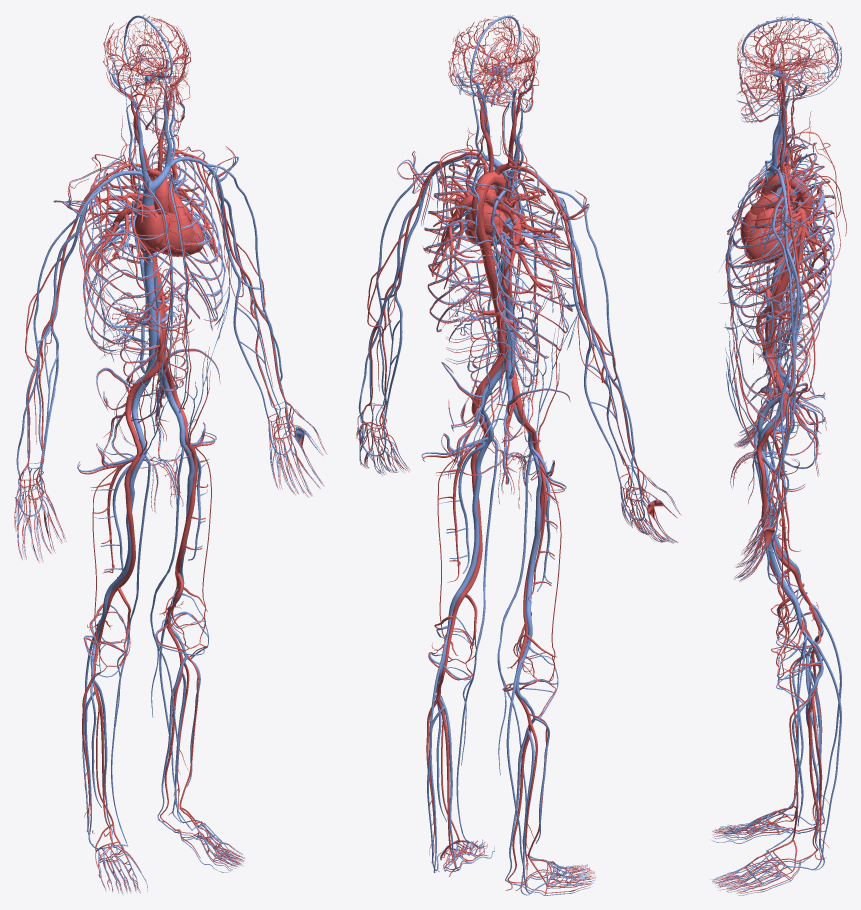
Rendered from cardio.glb.
3 views of the same model, side by side, from view 1: azimuth 30°, elevation 25°; view 2: azimuth 150°, elevation 25°; view 3: azimuth 270°, elevation 25° (orthographic). The views are drawn at different scales.
Visible parts, largest first — view 1: Right superior intercostal veins, Posterior intercostal arteries, Left superior intercostal veins.l, Great saphenous vein.001x, Great saphenous vein, Right atrium, Right ventricle, Femoral artery.001x, Posterior intercostal arteries.001x, Cephalic vein.001x, Femoral artery, Cephalic vein (+2 smaller); view 2: Right superior intercostal veins, Posterior intercostal arteries, Left superior intercostal veins.l, Posterior intercostal arteries.001x, Great saphenous vein.001x, Great saphenous vein, Femoral vein, Femoral vein.001x, Cephalic vein.001x, Thoracic aorta, Femoral artery, Basilic vein (+4 smaller); view 3: Left superior intercostal veins.l, Posterior intercostal arteries.001x, Cephalic vein, Right superior intercostal veins, Left ventricle, Small saphenous vein, Femoral artery, Great saphenous vein, Abdominal aorta, Small saphenous vein.001x, Great saphenous vein.001x, Posterior intercostal arteries (+24 smaller).
Boxes of the visible parts, left/top/right/bottom form: Right superior intercostal veins: left=80, top=155, right=171, bottom=351; Posterior intercostal arteries: left=79, top=163, right=168, bottom=354; Left superior intercostal veins.l: left=143, top=146, right=224, bottom=329; Great saphenous vein.001x: left=150, top=446, right=191, bottom=830; Great saphenous vein: left=111, top=455, right=150, bottom=845; Right atrium: left=135, top=205, right=169, bottom=253; Right ventricle: left=155, top=211, right=196, bottom=256; Femoral artery.001x: left=115, top=430, right=141, bottom=589; Posterior intercostal arteries.001x: left=149, top=153, right=225, bottom=330; Cephalic vein.001x: left=16, top=187, right=101, bottom=487; Femoral artery: left=175, top=418, right=197, bottom=574; Cephalic vein: left=202, top=162, right=289, bottom=421; Right superior intercostal veins: left=491, top=170, right=572, bottom=357; Posterior intercostal arteries: left=476, top=187, right=572, bottom=358; Left superior intercostal veins.l: left=424, top=156, right=500, bottom=330; Posterior intercostal arteries.001x: left=424, top=177, right=500, bottom=332; Great saphenous vein.001x: left=456, top=438, right=498, bottom=843; Great saphenous vein: left=497, top=451, right=537, bottom=858; Femoral vein: left=457, top=423, right=493, bottom=593; Femoral vein.001x: left=525, top=435, right=541, bottom=609; Cephalic vein.001x: left=552, top=189, right=641, bottom=495; Thoracic aorta: left=471, top=196, right=495, bottom=275; Femoral artery: left=460, top=418, right=488, bottom=597; Basilic vein: left=570, top=238, right=621, bottom=483; Left superior intercostal veins.l: left=727, top=163, right=834, bottom=357; Posterior intercostal arteries.001x: left=727, top=175, right=834, bottom=359; Cephalic vein: left=772, top=197, right=794, bottom=517; Right superior intercostal veins: left=727, top=144, right=834, bottom=304; Left ventricle: left=746, top=224, right=792, bottom=263; Small saphenous vein: left=801, top=639, right=841, bottom=870; Femoral artery: left=757, top=431, right=791, bottom=600; Great saphenous vein: left=753, top=432, right=818, bottom=819; Abdominal aorta: left=763, top=266, right=791, bottom=354; Small saphenous vein.001x: left=800, top=603, right=841, bottom=825; Great saphenous vein.001x: left=753, top=451, right=818, bottom=850; Posterior intercostal arteries: left=727, top=153, right=834, bottom=307.
Size of the model in its own units: 4.65 by 11.89 by 1.75.
